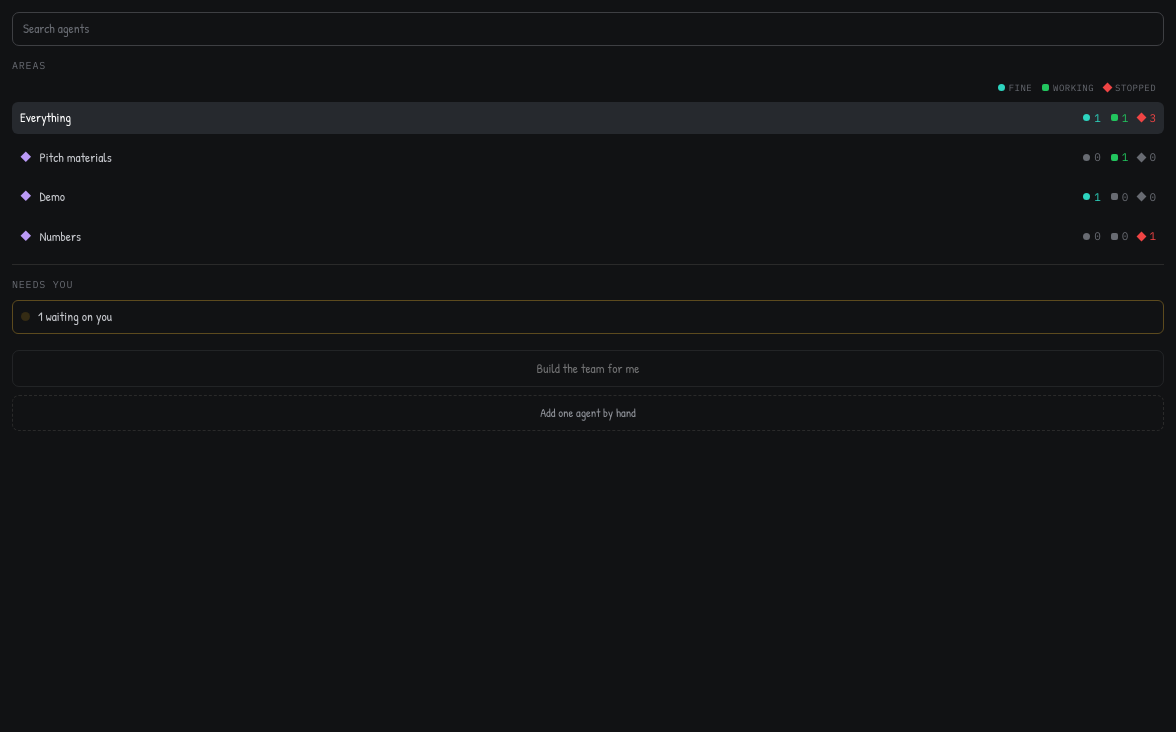
Test case: the two ways to get agents › cancelling the form leaves nothing behind
What coordinates should you click on to do the following:
click the button with test id "add-agent"
I would click on:
 (588, 413)
Its box is [12, 395, 1164, 431].
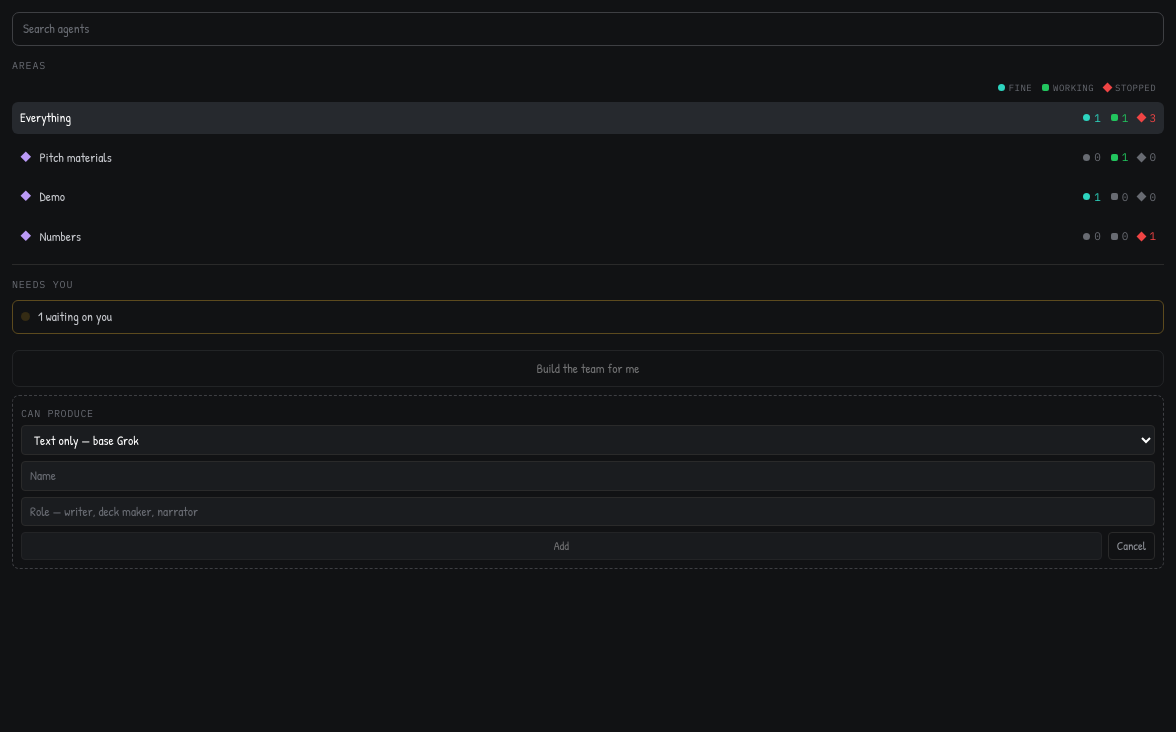
What coordinates should you click on to do the following:
click the button with test id "add-agent-cancel"
I would click on:
 (1131, 546)
Its box is [1108, 532, 1155, 560].
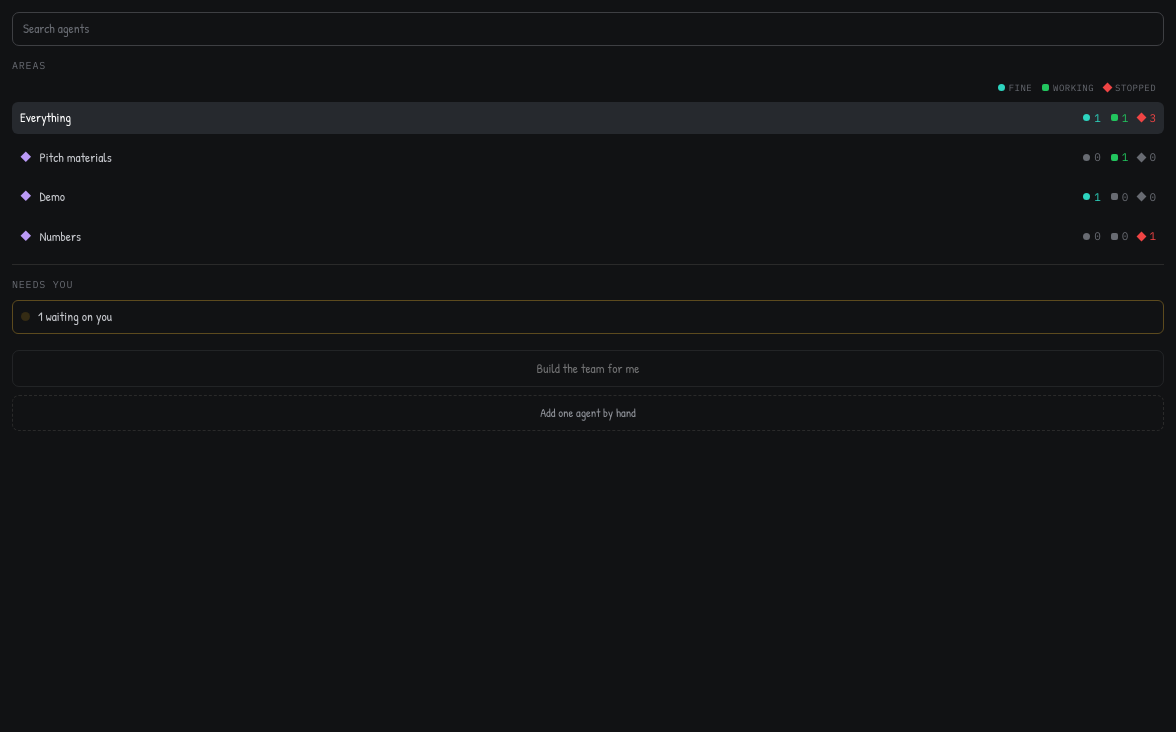
Result: the form with test id "add-agent-form" is gone
Result: the button with test id "add-agent" is shown at [12, 395, 1164, 431]
